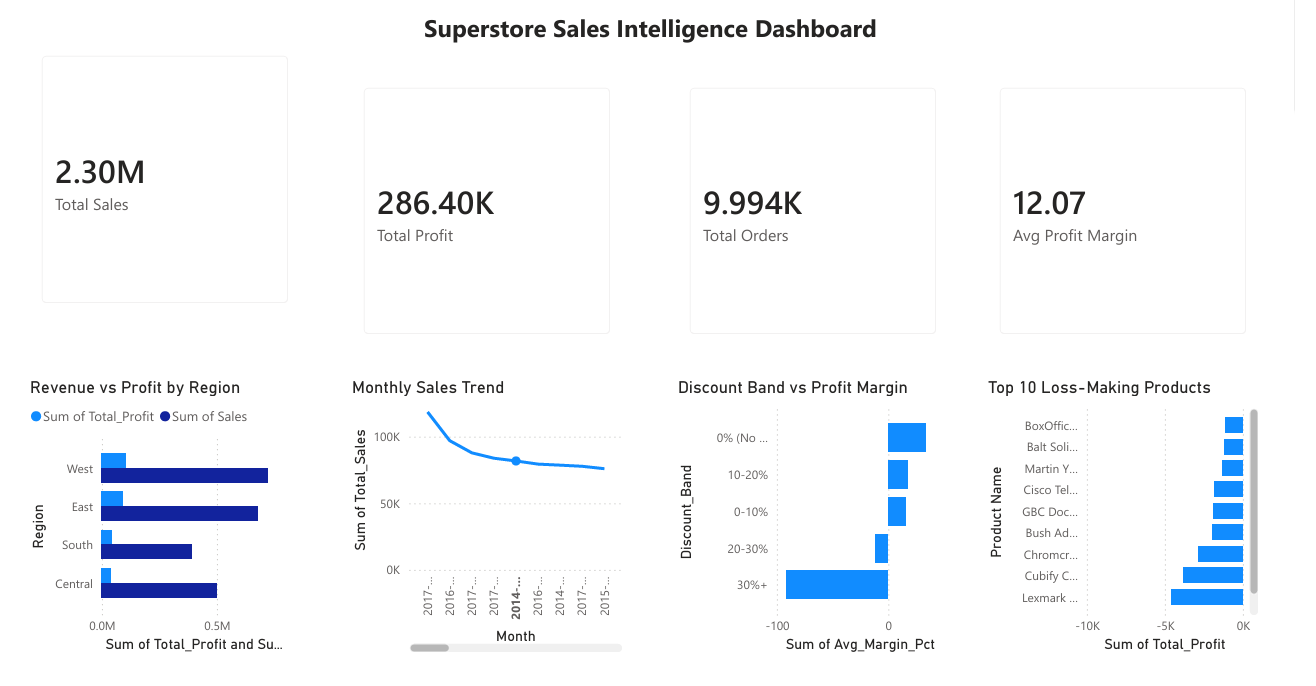

This screenshot's page, from the dashboard's own definition file:
{"tool":"powerbi","page":{"name":"Page 1","canvas":[1280,720],"ordinal":0},"visuals":[{"type":"cardVisual","fields":{"Data":["Sum(superstore_clean.Sales)"]},"box":[9.7,89.5,280.1,280.1],"z":0},{"type":"cardVisual","fields":{"Data":["Sum(superstore_clean.Profit)"]},"box":[331.7,120.6,280.1,280.1],"z":1000},{"type":"cardVisual","fields":{"Data":["Count(superstore_clean.Row ID)"]},"box":[657.5,120.6,280.1,280.1],"z":2000},{"type":"cardVisual","fields":{"Data":["pbi_region.Avg Profit Margin"]},"box":[967.8,120.6,280.1,280.1],"z":3000},{"type":"clusteredBarChart","title":"Revenue vs Profit by Region","fields":{"Category":["pbi_region.Region"],"Y":["Sum(pbi_region.Total_Profit)","Sum(superstore_clean.Sales)"]},"box":[9.7,427,280.1,280.1],"z":3001},{"type":"lineChart","title":"Monthly Sales Trend","fields":{"Y":["Sum(pbi_monthly.Total_Sales)"],"Category":["pbi_monthly.Month"]},"box":[331.7,427,280.1,280.1],"z":3002},{"type":"clusteredBarChart","title":"Discount Band vs Profit Margin","fields":{"Y":["Sum(pbi_discount.Avg_Margin_Pct)"],"Category":["pbi_discount.Discount_Band"]},"box":[657.5,427,280.1,280.1],"z":3003},{"type":"clusteredBarChart","title":"Top 10 Loss-Making Products","fields":{"Y":["Sum(pbi_loss_products.Total_Profit)"],"Category":["pbi_loss_products.Product Name"]},"box":[967.8,427,280.1,280.1],"z":3004},{"type":"textbox","box":[403.6,56.4,471.7,64.2],"z":3005}]}

Visuals, with their boxes on the page's 1280x720 design canvas (x1, y1, x2, y2). These are canvas units, not pixel positions in the 1316x686 screenshot, which may show the page scaled, cropped or inside an application window:
cardVisual - Sum(superstore_clean.Sales): left=10, top=90, right=290, bottom=370
cardVisual - Sum(superstore_clean.Profit): left=332, top=121, right=612, bottom=401
cardVisual - Count(superstore_clean.Row ID): left=658, top=121, right=938, bottom=401
cardVisual - pbi_region.Avg Profit Margin: left=968, top=121, right=1248, bottom=401
"Revenue vs Profit by Region" clusteredBarChart: left=10, top=427, right=290, bottom=707
"Monthly Sales Trend" lineChart: left=332, top=427, right=612, bottom=707
"Discount Band vs Profit Margin" clusteredBarChart: left=658, top=427, right=938, bottom=707
"Top 10 Loss-Making Products" clusteredBarChart: left=968, top=427, right=1248, bottom=707
textbox: left=404, top=56, right=875, bottom=121
